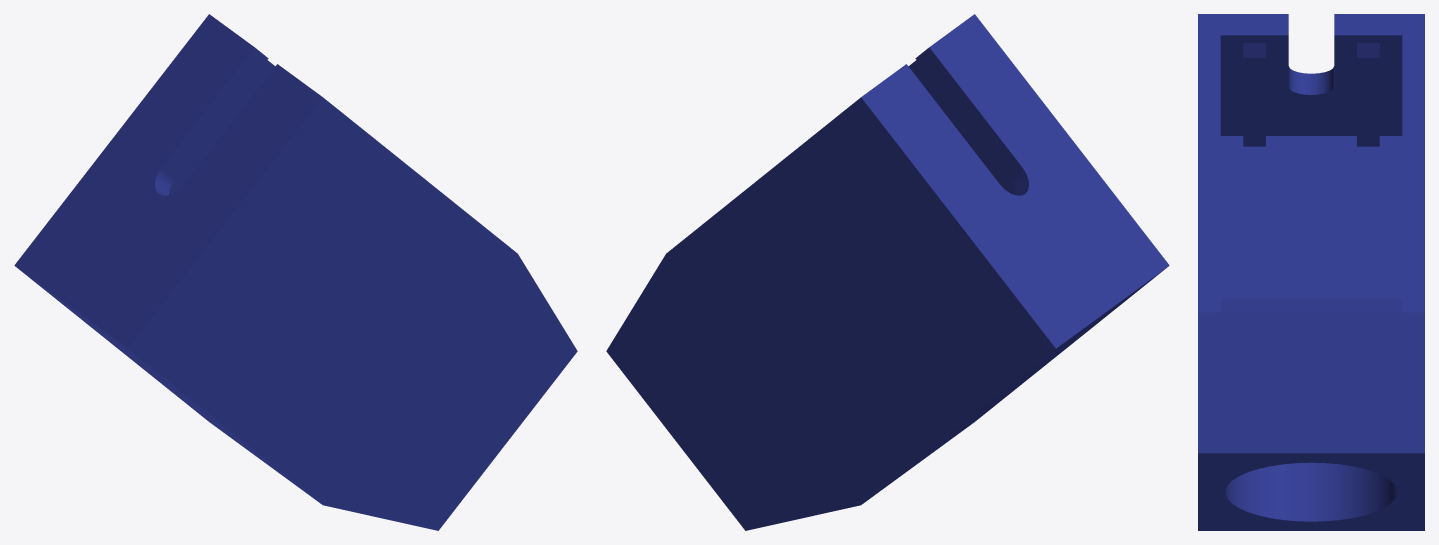
File: body38_visual.obj
The picture shows the model from 3 angles, left to right: view 1: azimuth 30°, elevation 25°; view 2: azimuth 150°, elevation 25°; view 3: azimuth 270°, elevation 25°; orthographic projection.
Parts seen in each view (by area): view 1: Body38; view 2: Body38; view 3: Body38.
Part boxes in pixels (x1,y1,x2,y2): Body38: [14, 14, 577, 530]; Body38: [606, 14, 1169, 530]; Body38: [1198, 14, 1424, 530].
Bounding box in the file's own units: 1.14 × 1.12 × 0.5.
